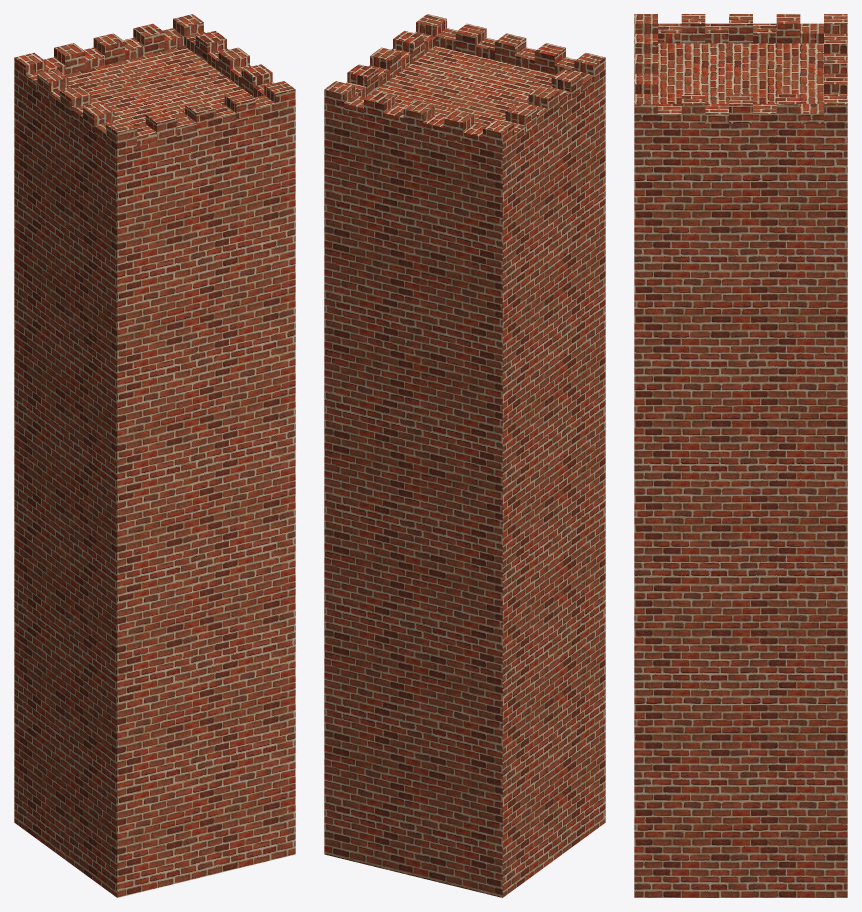
The model's file is tou1.fbx.
The picture shows the model from 3 angles, left to right: view 1: azimuth 30°, elevation 25°; view 2: azimuth 150°, elevation 25°; view 3: azimuth 270°, elevation 25°; orthographic projection. The views are drawn at different scales.
Parts seen in each view (by area): view 1: pCube1; view 2: pCube1; view 3: pCube1.
Part boxes in pixels (<box>): pCube1: <box>14,14,295,897</box>; pCube1: <box>324,14,605,897</box>; pCube1: <box>634,14,847,897</box>.
Size of the model in its own units: 20 by 82 by 20.
1 material, 1 textured.
